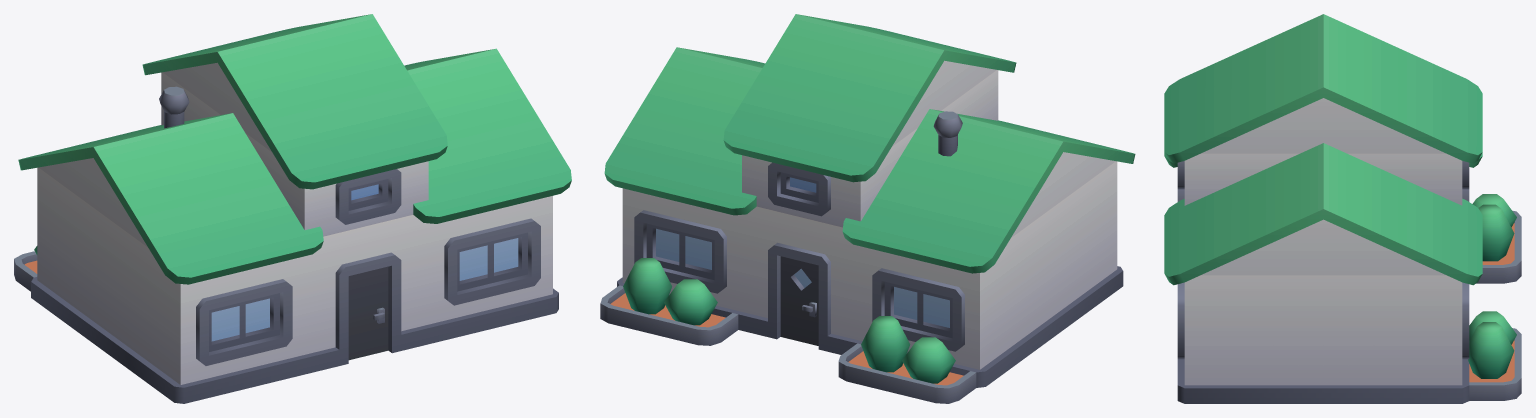
The model's file is building-suburban-a.glb.
3 views of the same model, side by side, from view 1: azimuth 30°, elevation 25°; view 2: azimuth 150°, elevation 25°; view 3: azimuth 270°, elevation 25° (orthographic). The views are drawn at different scales.
Parts seen in each view (by area): view 1: building-type-a; view 2: building-type-a; view 3: building-type-a.
Part boxes in pixels (left/top/right/bottom): building-type-a: left=14, top=14, right=571, bottom=403; building-type-a: left=600, top=14, right=1135, bottom=403; building-type-a: left=1164, top=14, right=1521, bottom=403.
Bounding box in the file's own units: 10.4 × 6.67 × 8.23.
1 material, 1 textured.
